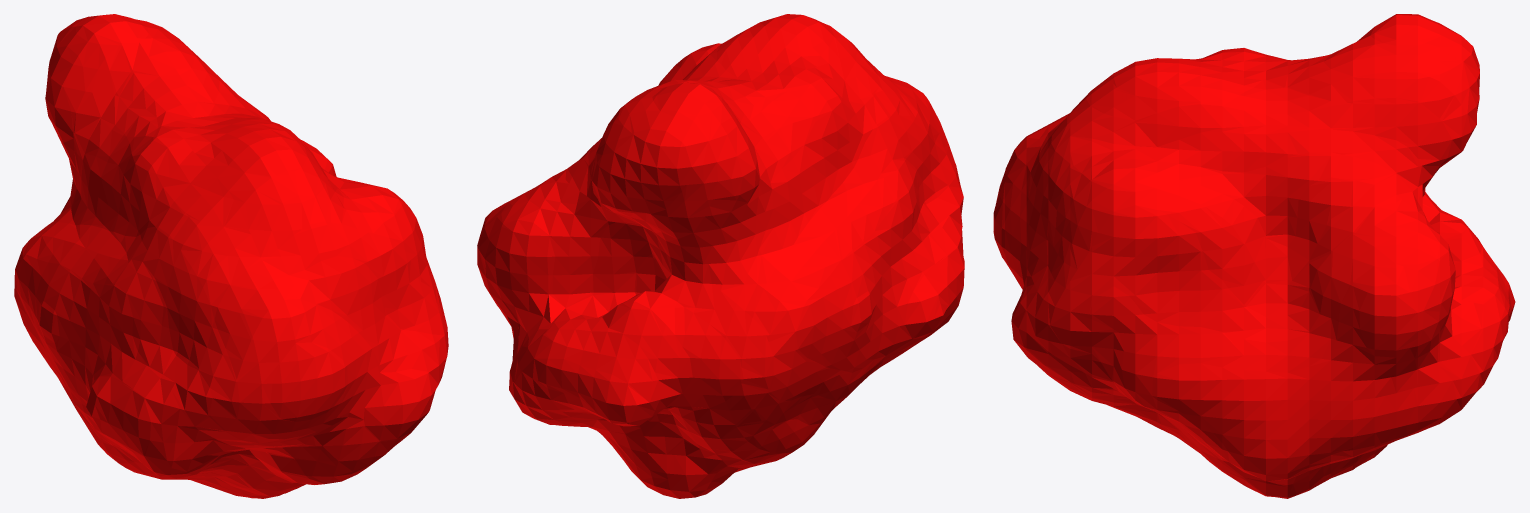
The model's file is cdsA_coarse.dae.
3 renders of one model, left to right at view 1: azimuth 30°, elevation 25°; view 2: azimuth 150°, elevation 25°; view 3: azimuth 270°, elevation 25°, orthographic. The views are drawn at different scales.
Parts seen in each view (by area): view 1: cdsA; view 2: cdsA; view 3: cdsA.
Boxes of the visible parts, x1,y1,x2,y2 form: cdsA: [14, 14, 448, 498]; cdsA: [477, 14, 964, 498]; cdsA: [993, 14, 1515, 498].
Bounding box in the file's own units: 42.88 × 52.14 × 57.15.
